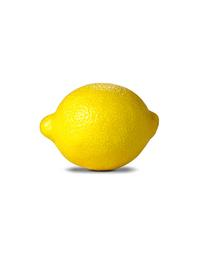lemon: (39, 83, 158, 167)
